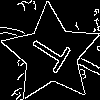T: (26, 29, 79, 80)
